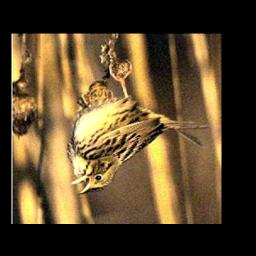Sparrow: (68, 61, 212, 196)
